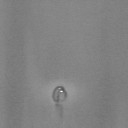slag inclusion: (52, 86, 68, 121)
